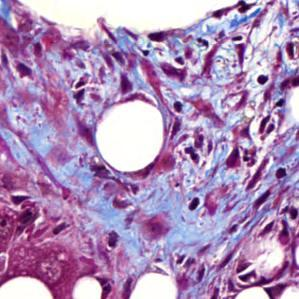steatosis: (93, 103, 170, 173)
